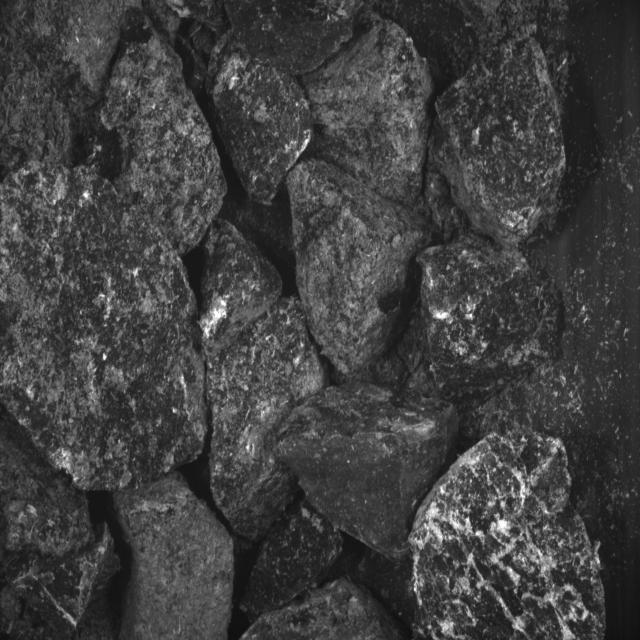Stones: (1, 164, 207, 490), (410, 434, 606, 640), (201, 221, 326, 540), (279, 384, 459, 558), (287, 161, 426, 379), (101, 29, 227, 256), (431, 39, 566, 248), (1, 1, 141, 181), (304, 20, 434, 207), (420, 238, 542, 404), (115, 472, 235, 640), (207, 33, 312, 205), (241, 501, 344, 621), (242, 578, 405, 640), (226, 1, 362, 75)
